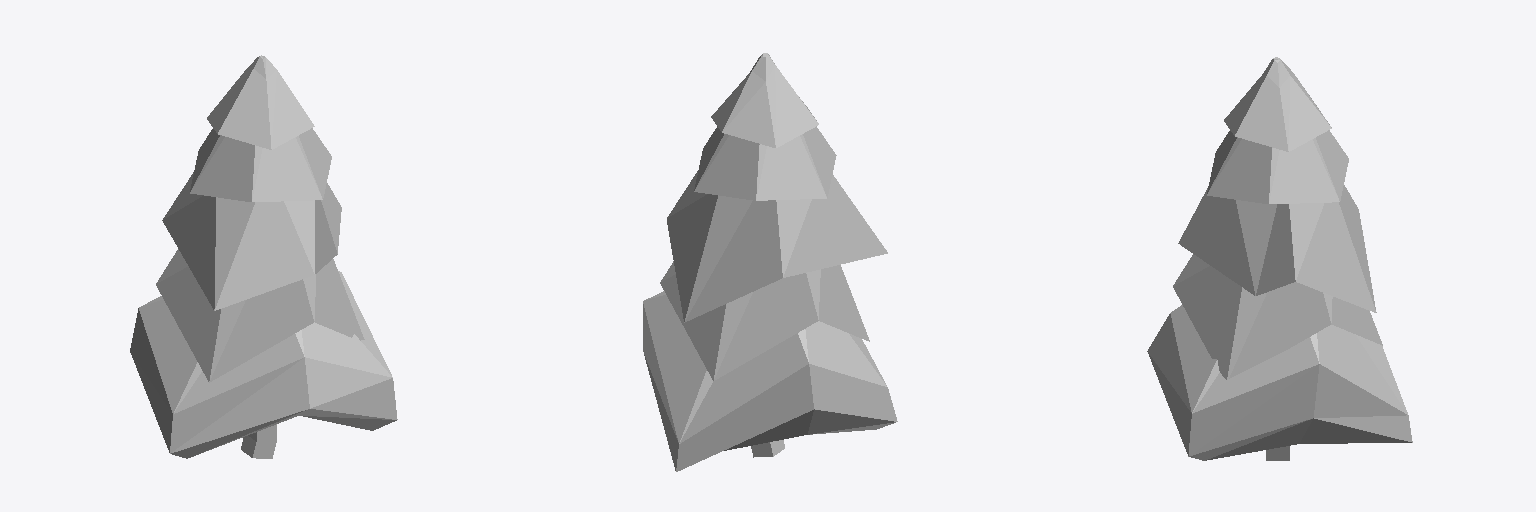
Rendered from tree.obj.
3 views of the same model, side by side, from view 1: azimuth 30°, elevation 25°; view 2: azimuth 150°, elevation 25°; view 3: azimuth 270°, elevation 25° (orthographic).
Visible parts, largest first — view 1: Circle, Circle.002, Circle.001, Circle.003, Circle.004, Cube.004; view 2: Circle, Circle.002, Circle.001, Circle.003, Circle.004; view 3: Circle, Circle.002, Circle.001, Circle.003, Circle.004.
Part boxes in pixels (x1,y1,x2,y2): Circle: (130,271,397,458); Circle.002: (162,172,341,310); Circle.001: (156,249,364,382); Circle.003: (190,128,331,201); Circle.004: (207,55,314,149); Cube.004: (241,424,276,458); Circle: (643,291,897,471); Circle.002: (667,171,887,322); Circle.001: (660,261,869,380); Circle.003: (694,126,836,200); Circle.004: (711,53,818,147); Circle: (1147,305,1412,460); Circle.002: (1178,185,1376,312); Circle.001: (1173,254,1382,379); Circle.003: (1207,130,1348,203); Circle.004: (1224,57,1331,151).
Bounding box in the file's own units: 2.19 × 3.89 × 2.34.